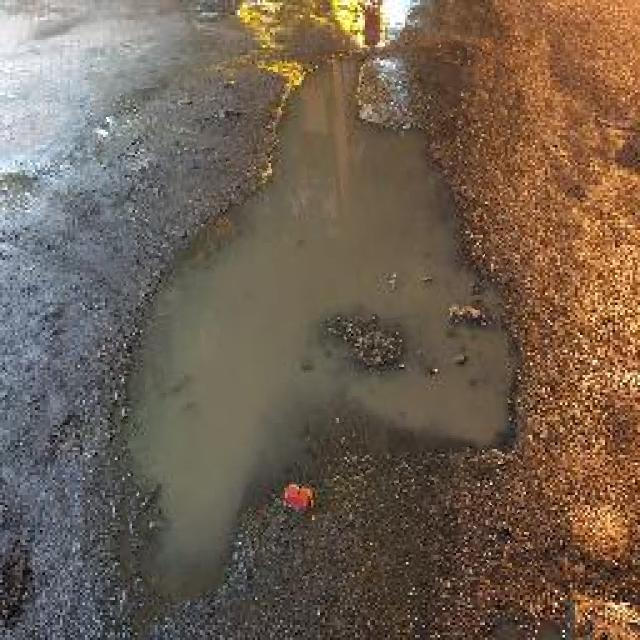puddle: (101, 47, 530, 600)
